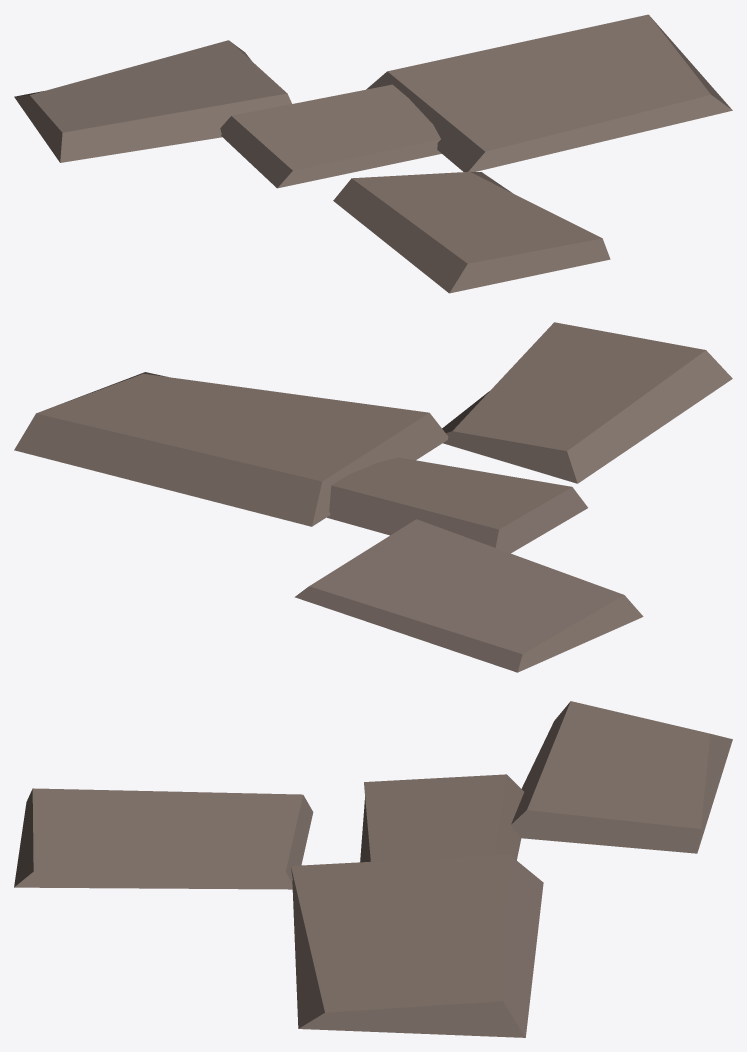
The model's file is M_Dalle_B.FBX.
The picture shows the model from 3 angles, top to bottom: view 1: azimuth 30°, elevation 25°; view 2: azimuth 150°, elevation 25°; view 3: azimuth 270°, elevation 25°; orthographic projection. The views are drawn at different scales.
Parts seen in each view (by area): view 1: M_DallesB; view 2: M_DallesB; view 3: M_DallesB.
Boxes of the visible parts, bbox=[...] form: M_DallesB: bbox=[14, 14, 732, 293]; M_DallesB: bbox=[14, 322, 732, 672]; M_DallesB: bbox=[14, 701, 732, 1037].
Size of the model in its own units: 200 by 10.68 by 192.
